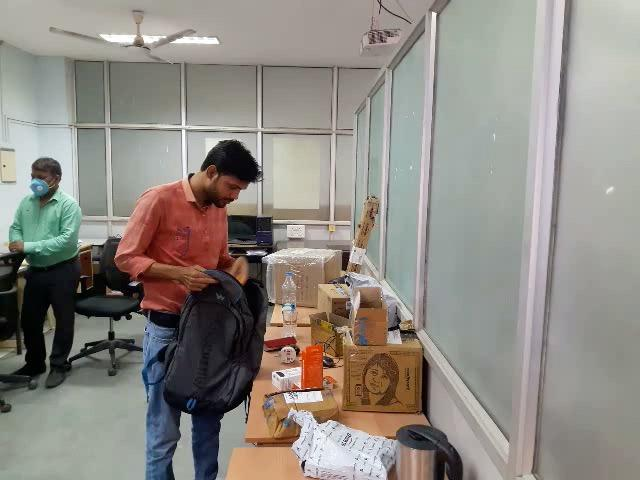shoplifting: (79, 201, 358, 413)
